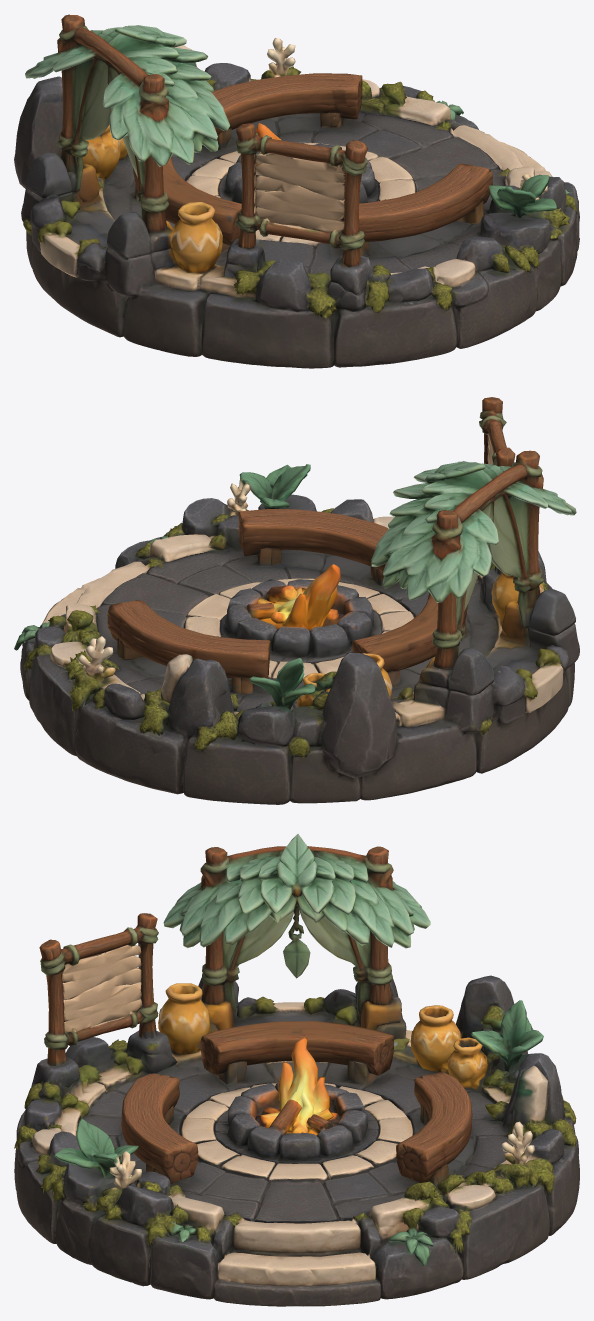
File: event-memory.glb
3 views of the same model, one above another, from view 1: azimuth 30°, elevation 25°; view 2: azimuth 150°, elevation 25°; view 3: azimuth 270°, elevation 25° (orthographic).
Parts seen in each view (by area): view 1: tripo_node_e1cc32b4-2567-4069-991e-936689f41ed5; view 2: tripo_node_e1cc32b4-2567-4069-991e-936689f41ed5; view 3: tripo_node_e1cc32b4-2567-4069-991e-936689f41ed5.
Boxes of the visible parts, x1,y1,x2,y2 form: tripo_node_e1cc32b4-2567-4069-991e-936689f41ed5: [14, 14, 579, 368]; tripo_node_e1cc32b4-2567-4069-991e-936689f41ed5: [14, 397, 579, 804]; tripo_node_e1cc32b4-2567-4069-991e-936689f41ed5: [14, 834, 579, 1306].
Size of the model in its own units: 0.9742 by 0.5173 by 0.9811.
1 material, 1 textured.
